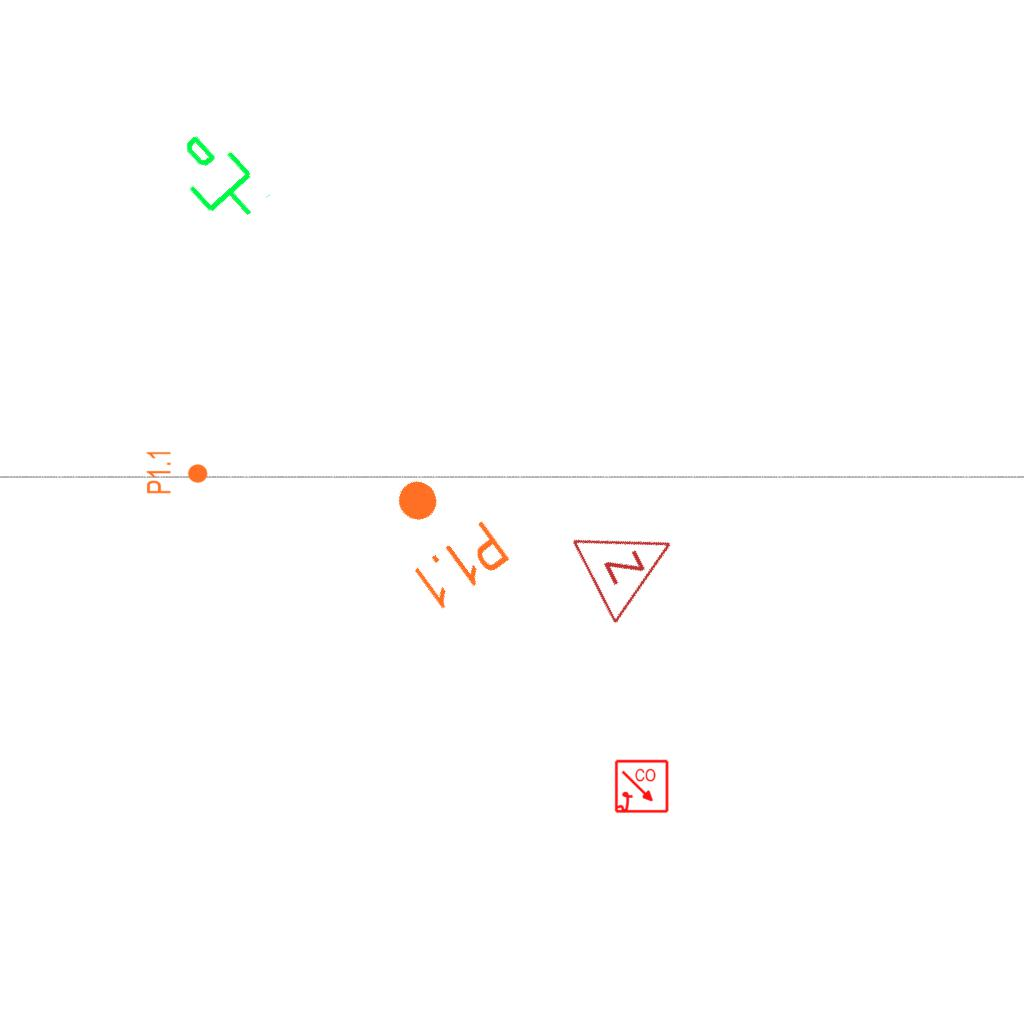Datenanschluss_einfach: (157, 119, 276, 241)
Downlight_LED_Einbauleuchten_Flur: (364, 456, 515, 616), (145, 449, 209, 495)
ROA_Rauchmelder_optisch_mit_Signalgeber_(Sockelsirene): (614, 759, 670, 815)
Zimmersignalleuchte: (564, 495, 698, 629)
